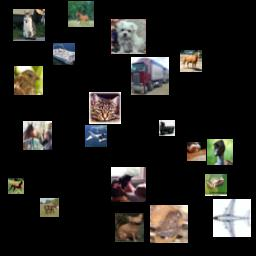airplane: (213, 199, 251, 237), (85, 125, 107, 147)
bird: (14, 66, 43, 95), (207, 139, 233, 165)
cat: (111, 167, 146, 202), (13, 9, 45, 41), (89, 92, 121, 124)
dog: (111, 19, 146, 54), (115, 213, 144, 242), (187, 142, 206, 161)
frog: (150, 205, 188, 243), (205, 174, 227, 196)
ship: (53, 43, 75, 65)
truck: (131, 57, 169, 95), (159, 120, 175, 136)
